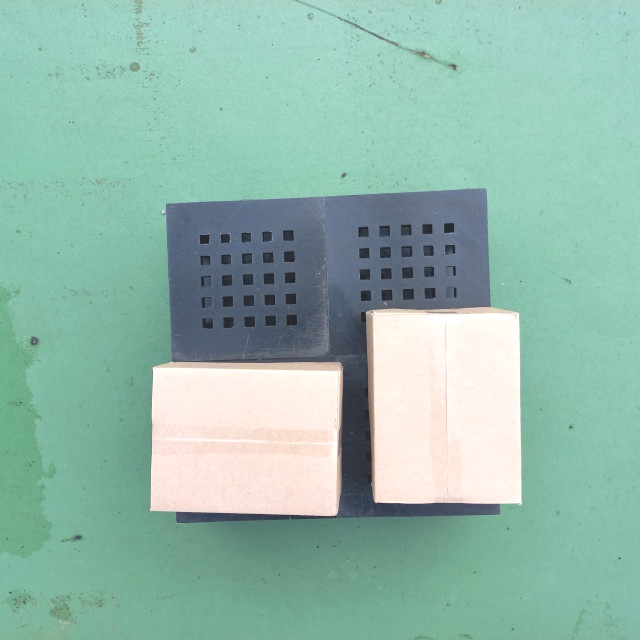box: (367, 306, 523, 508), (148, 358, 344, 518)
